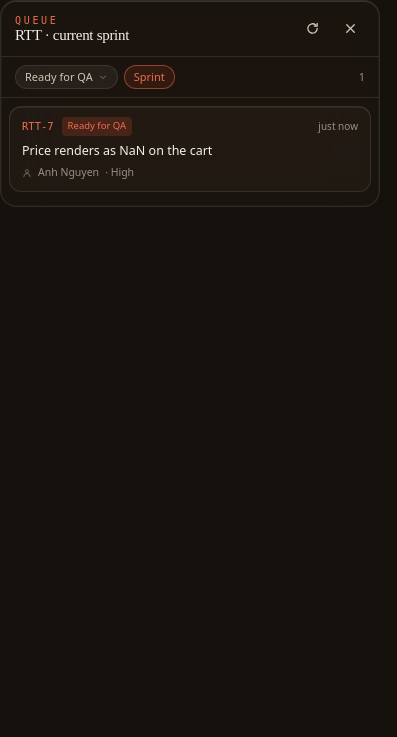
Test: Queue detail › shows summary, assignee, description, comments and attachments
Click the button that starts with "RTT-7" at (190, 149), box [9, 106, 371, 192]
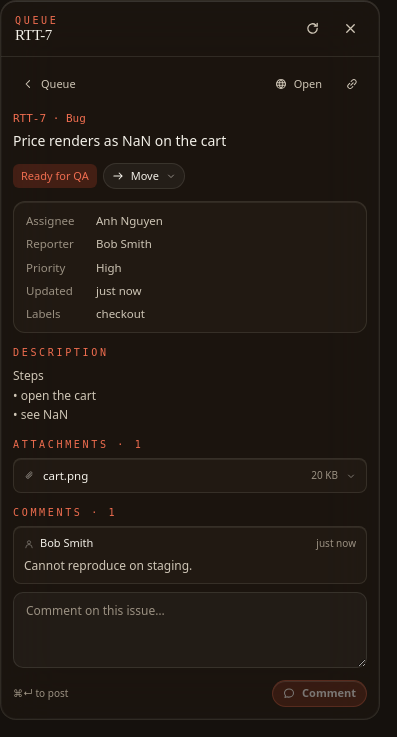
Result: the text "Bob Smith" is shown at [96, 236, 152, 251]
Result: the text "cart.png" is shown at [43, 468, 88, 483]
Result: the text "Steps" is shown at [13, 368, 96, 424]
